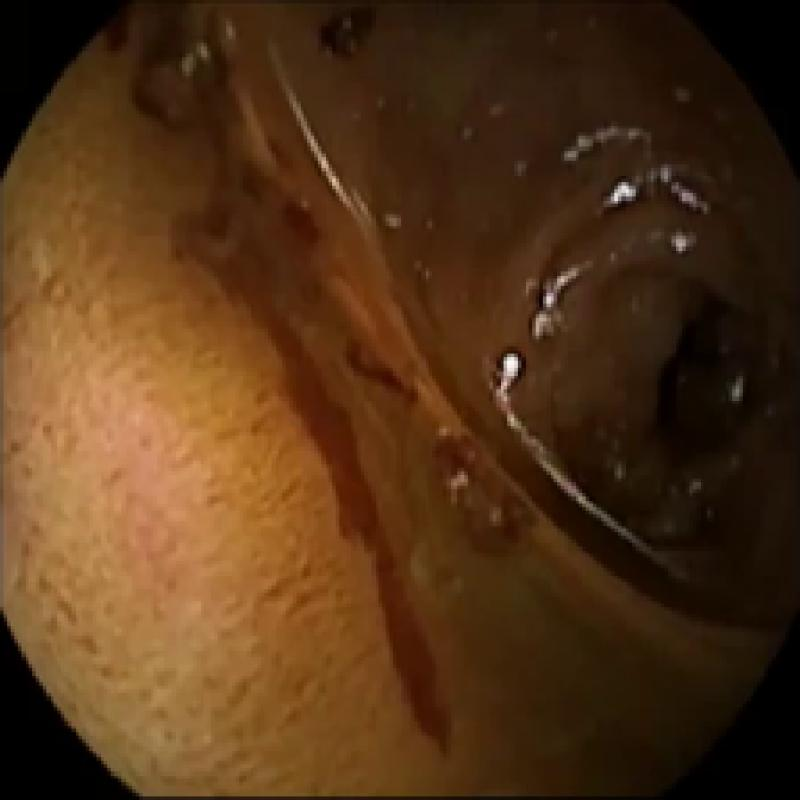bleeding: (93, 0, 443, 757), (447, 449, 530, 562)
